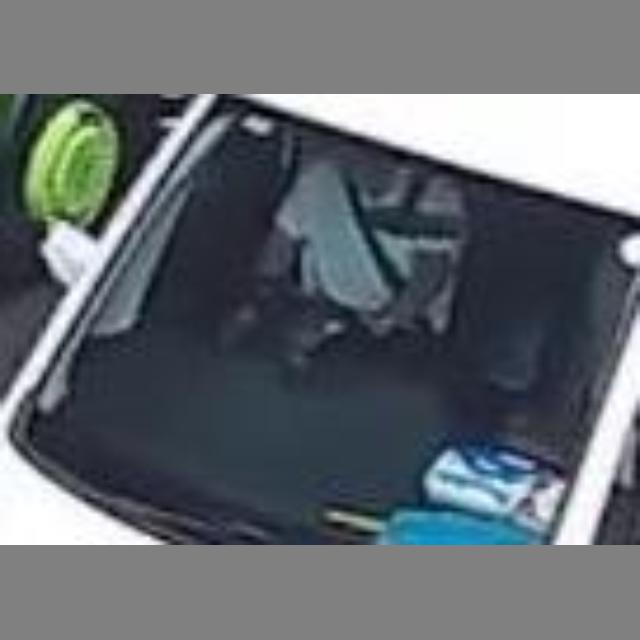pakai: (226, 136, 466, 376)
